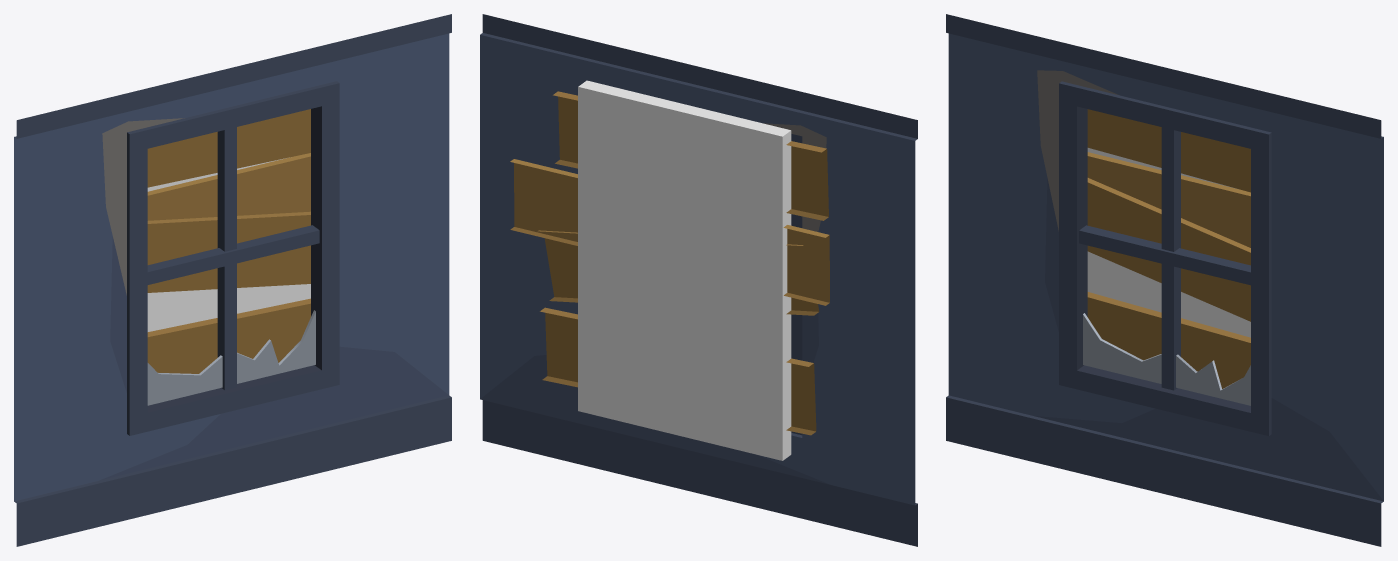
Rendered from AI_Env_Wall_Blue_Window_01.fbx.
3 renders of one model, left to right at view 1: azimuth 30°, elevation 25°; view 2: azimuth 150°, elevation 25°; view 3: azimuth 330°, elevation 25°, orthographic.
Parts seen in each view (by area): view 1: AI_Env_Wall_Blue_Window_01; view 2: AI_Env_Wall_Blue_Window_01; view 3: AI_Env_Wall_Blue_Window_01.
Boxes of the visible parts, x1,y1,x2,y2 form: AI_Env_Wall_Blue_Window_01: (14,14,451,546); AI_Env_Wall_Blue_Window_01: (480,14,917,546); AI_Env_Wall_Blue_Window_01: (946,14,1383,546).
Bounding box in the file's own units: 5 × 4.69 × 0.3888.
